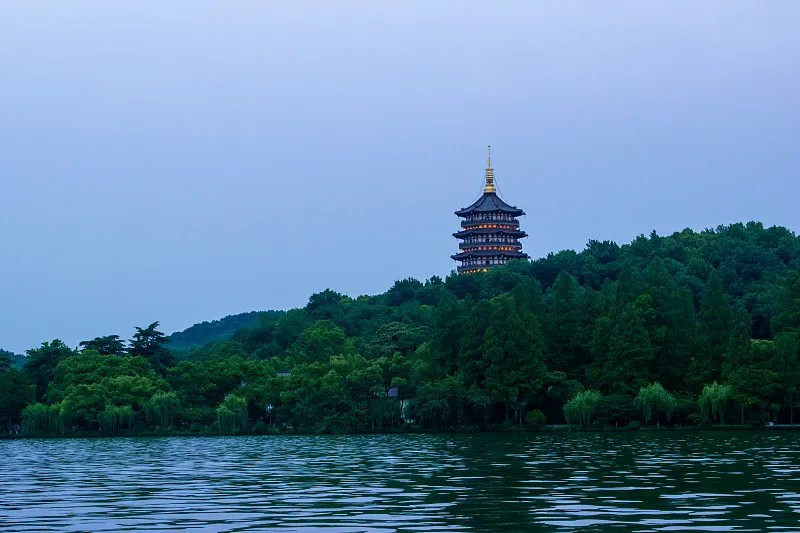Leifeng: (451, 144, 532, 281)
